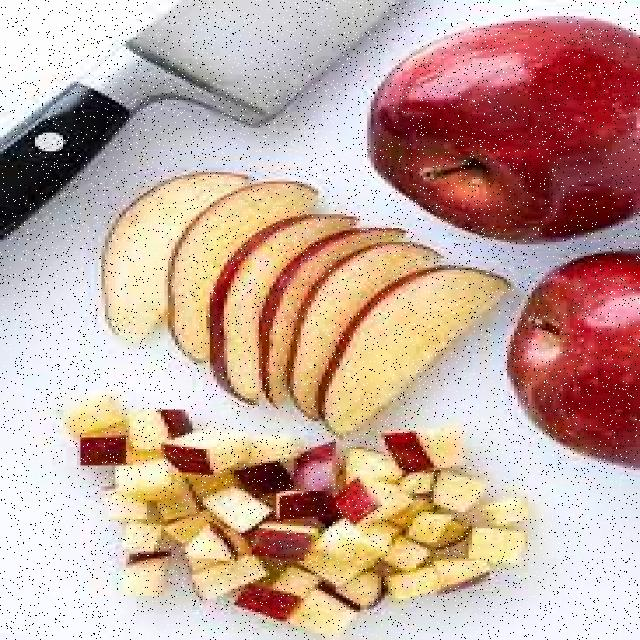Apple: (350, 16, 640, 245), (318, 269, 526, 437), (165, 183, 332, 367), (498, 255, 640, 470), (285, 246, 443, 424), (212, 212, 356, 407), (258, 229, 411, 410), (97, 170, 248, 346), (298, 527, 382, 585), (287, 588, 370, 639), (391, 421, 474, 471), (173, 427, 247, 474), (190, 557, 262, 605), (332, 479, 402, 527), (109, 458, 182, 499), (127, 402, 190, 447), (203, 488, 267, 532), (464, 525, 536, 564), (115, 552, 170, 603), (474, 488, 544, 528), (257, 489, 336, 524), (242, 527, 316, 564), (413, 562, 493, 595), (62, 397, 126, 438), (227, 586, 302, 618), (432, 473, 487, 514), (240, 458, 294, 494), (384, 568, 437, 604), (106, 523, 166, 554), (410, 509, 456, 548), (78, 433, 130, 467)
